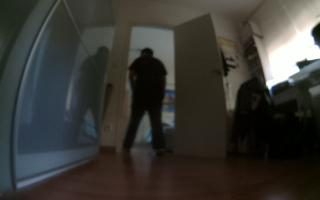person: (120, 46, 174, 161)
